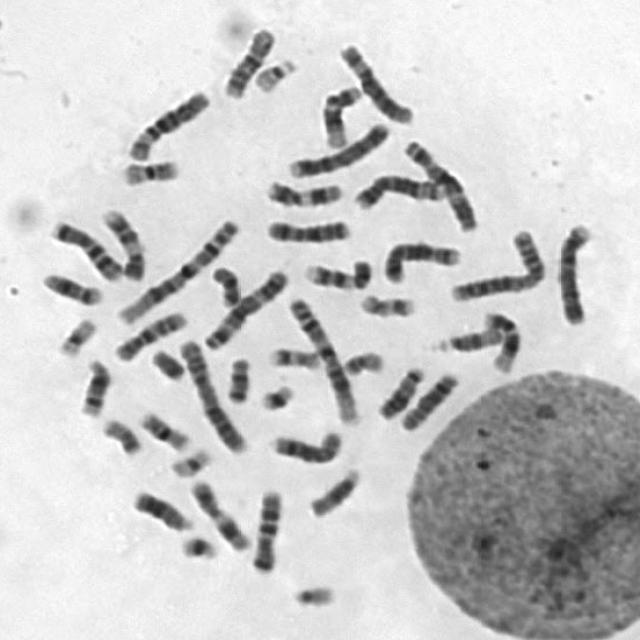A1: (111, 212, 242, 326), (282, 290, 363, 427)
A2: (174, 332, 249, 455), (446, 221, 548, 304)
A3: (398, 132, 481, 234), (198, 262, 292, 351)
B4: (282, 114, 393, 180), (551, 216, 597, 326)
B5: (378, 233, 465, 284), (348, 167, 449, 210)
C10: (108, 303, 190, 363), (217, 20, 278, 100)
C11: (184, 473, 254, 553), (260, 174, 346, 209)
C12: (316, 78, 366, 150), (476, 304, 523, 374)
C6: (332, 36, 416, 126), (121, 81, 212, 163)
C7: (43, 211, 126, 284), (245, 482, 285, 575)
C8: (394, 365, 463, 432), (264, 422, 347, 465)
C9: (94, 201, 147, 282), (296, 251, 376, 291)
D13: (371, 359, 429, 421), (125, 483, 196, 533)
D14: (35, 265, 105, 307), (72, 352, 112, 418)
D15: (303, 461, 364, 519), (429, 320, 508, 353)
E16: (132, 404, 195, 453), (115, 152, 182, 187)
E17: (354, 287, 419, 319), (263, 339, 324, 372)
E18: (204, 258, 244, 308), (220, 350, 253, 404)
F19: (51, 310, 100, 359), (163, 441, 214, 478)
F20: (96, 412, 144, 458), (336, 343, 387, 377)
G21: (252, 378, 298, 412), (174, 528, 221, 561)
G22: (247, 51, 300, 94), (285, 578, 340, 610)
X: (260, 212, 354, 244)
Y: (145, 342, 188, 383)
